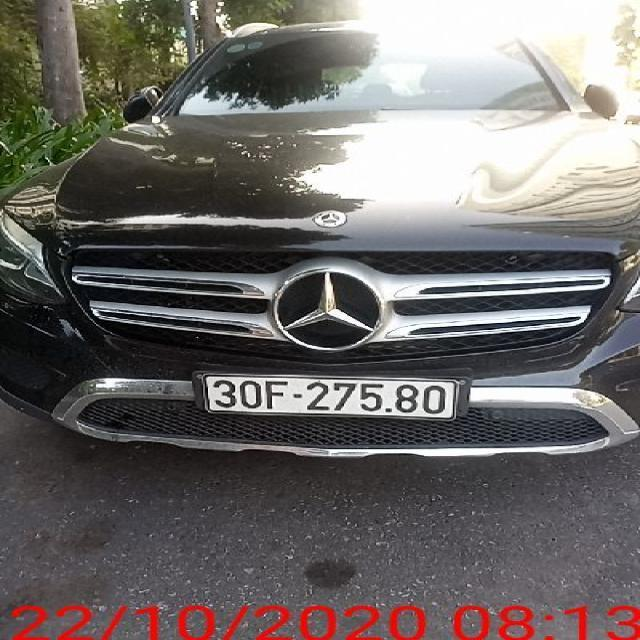bien_so_oto: (199, 369, 460, 424)
